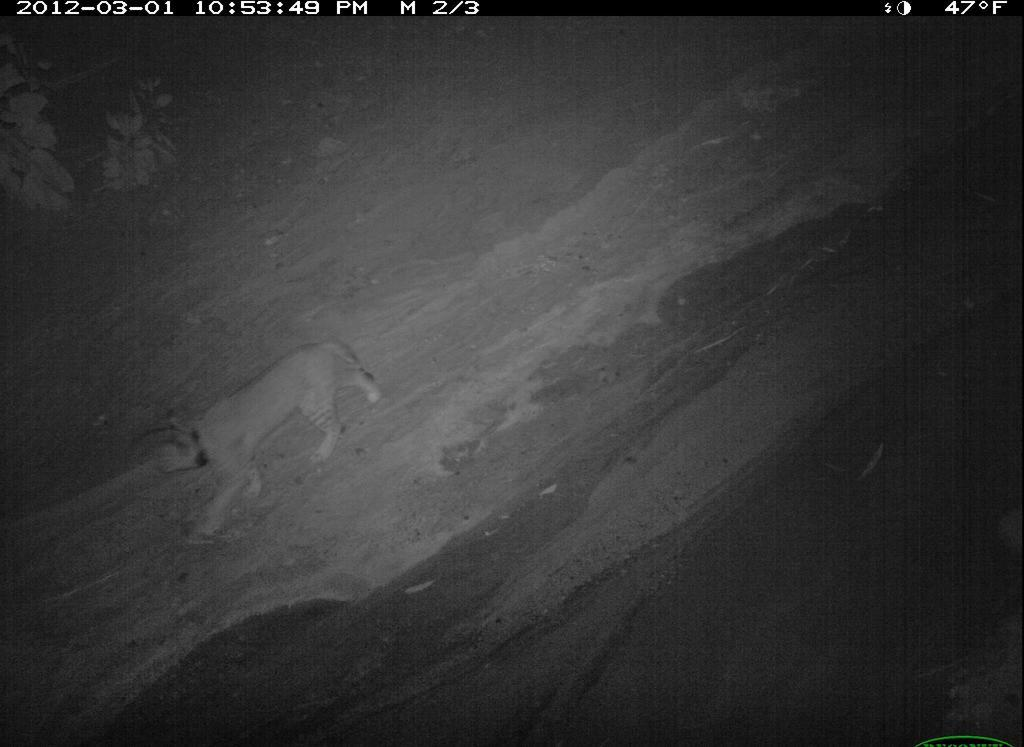bobcat: (287, 664, 772, 747)
